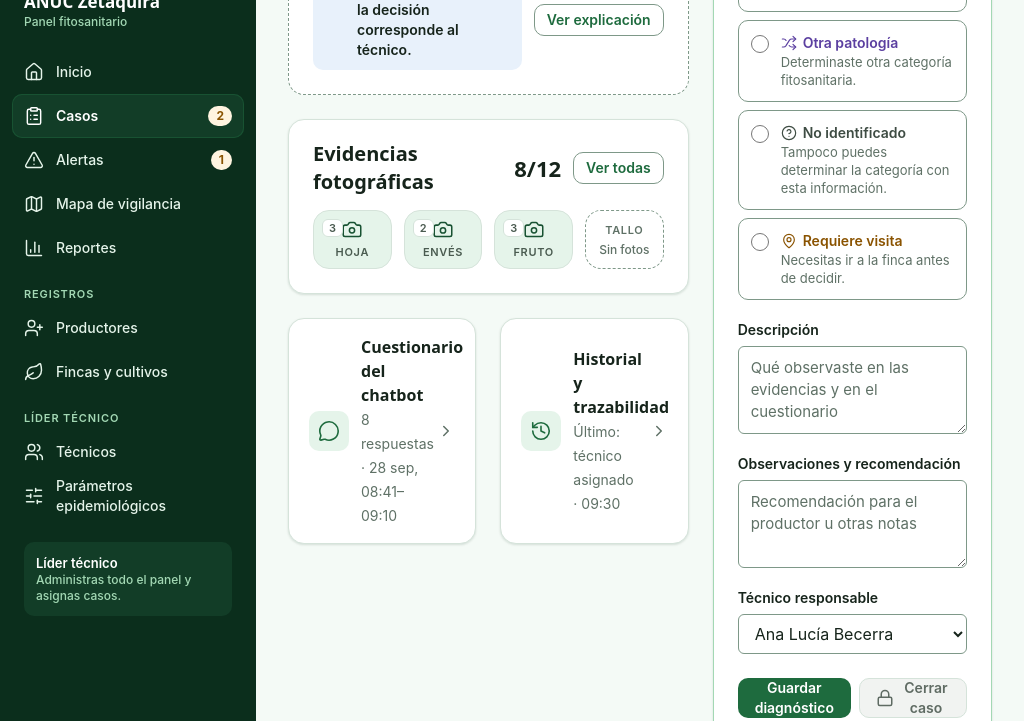
Test: Diagnóstico técnico y cierre › valida el resultado y los campos condicionales sin vaciar el formulario
(page scrolled)
Expected: the button "Cerrar caso" is disabled, [859, 678, 967, 718]
Type "Moho gris en frutos." into the text box labelled "Descripción".
click(852, 390); type("Moho gris en frutos.")  # box [738, 346, 967, 434]
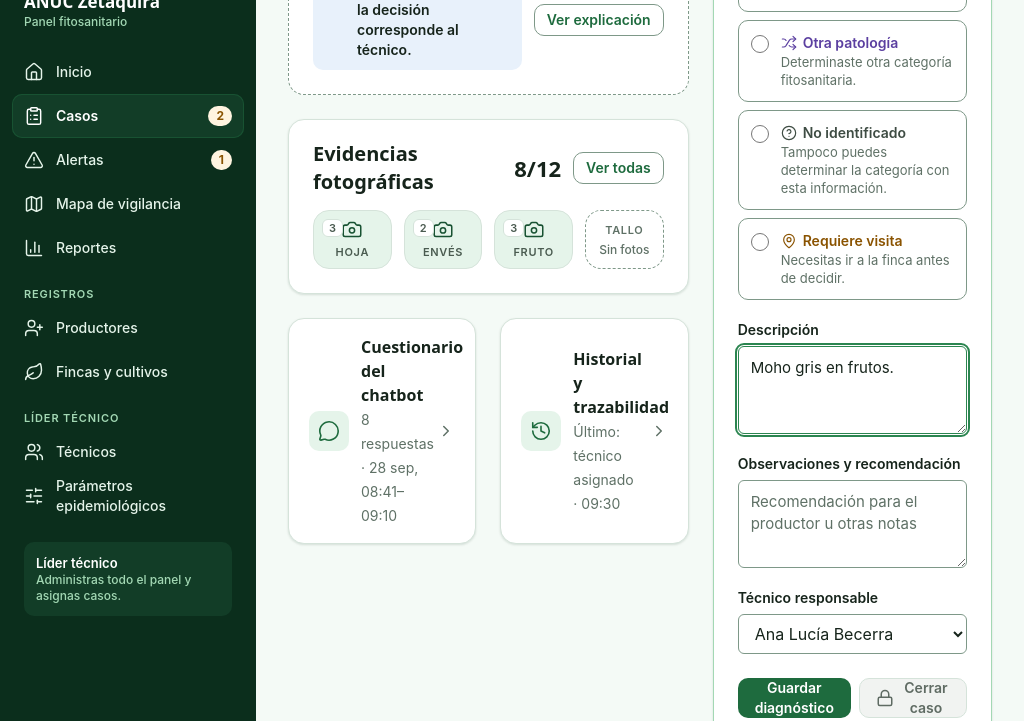
Click the button "Guardar diagnóstico".
click(794, 698)  # box [738, 678, 851, 718]
(page scrolled)
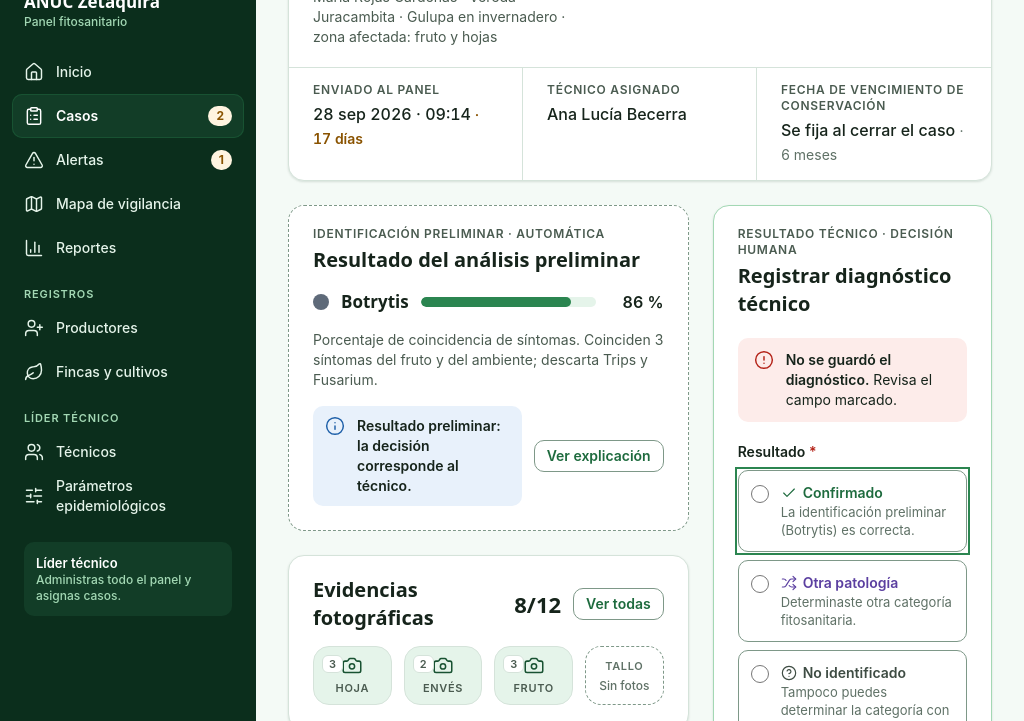
Now the text "No se guardó el diagnóstico." is shown, box [786, 351, 891, 388]
Now the text "Revisa el campo marcado." is shown, box [786, 371, 932, 408]
Click the radio button labelled "Otra patología Determinaste otra categoría fitosanitaria.".
click(760, 584)  # box [751, 575, 769, 593]
(page scrolled)
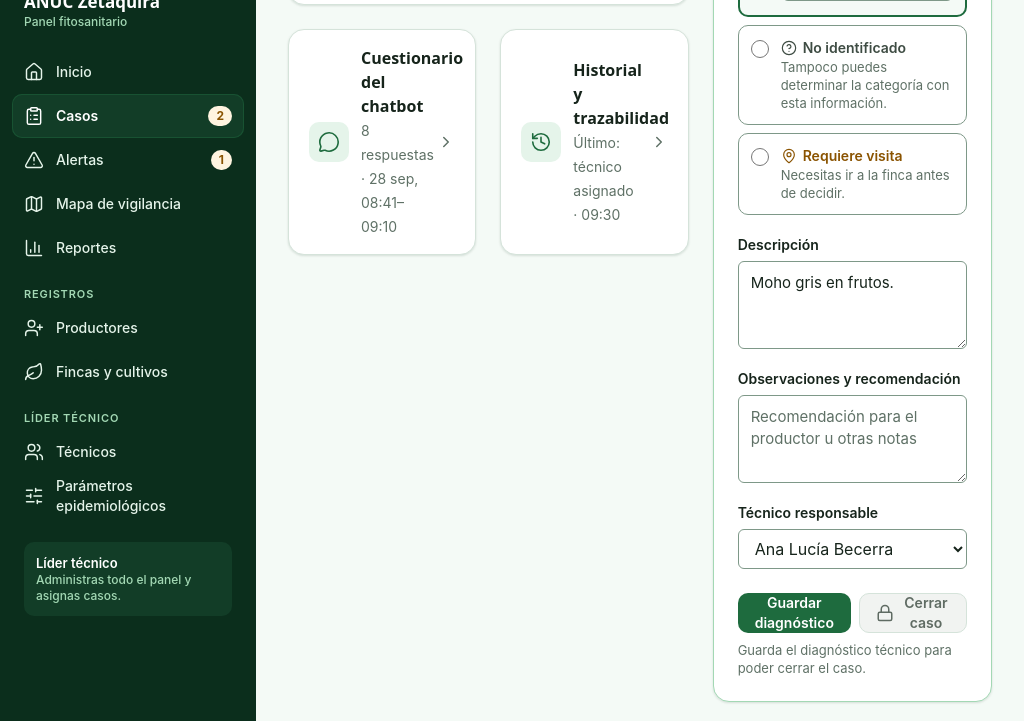
Expected: the option "Botrytis" is not shown
Click the button "Guardar diagnóstico".
click(794, 613)  # box [738, 593, 851, 633]
(page scrolled)
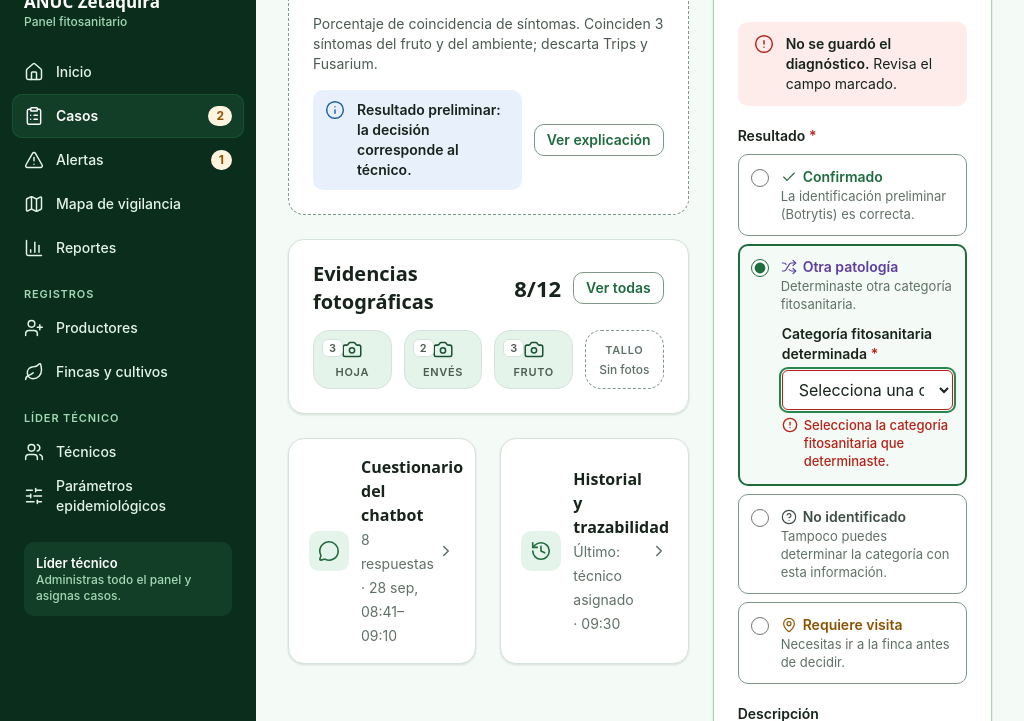
Now the text "Selecciona la categoría fitosanitaria que determinaste." is shown, box [782, 416, 953, 470]
Click the radio button labelled "Requiere visita Necesitas ir a la finca antes de decidir.".
click(760, 626)  # box [751, 617, 769, 635]
(page scrolled)
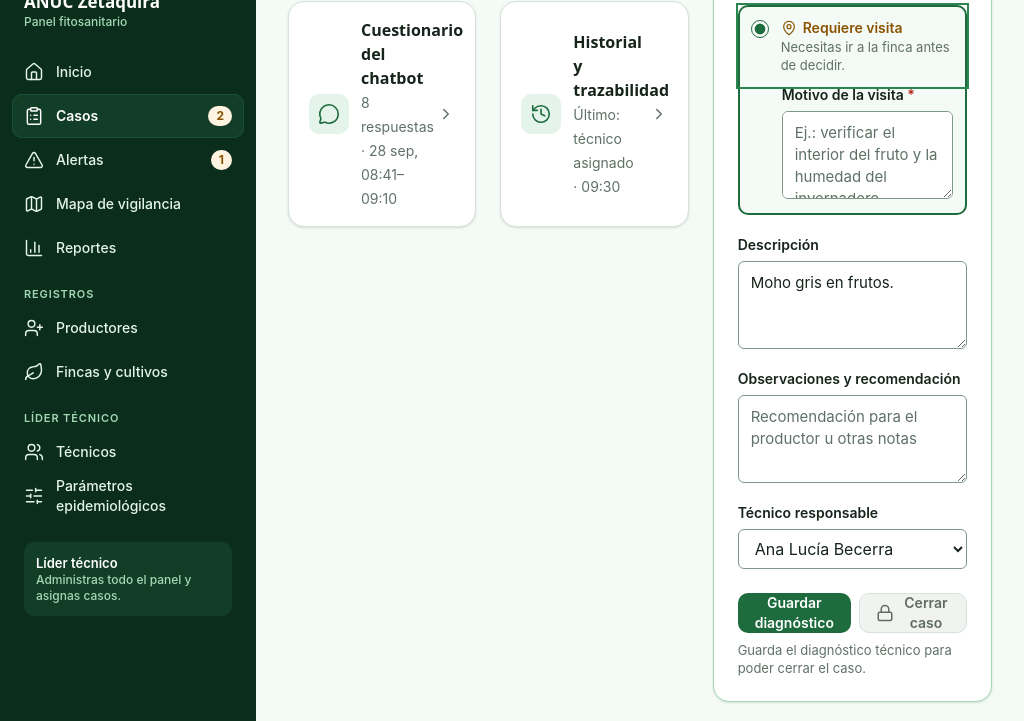
Click the button "Guardar diagnóstico".
click(794, 613)  # box [738, 593, 851, 633]
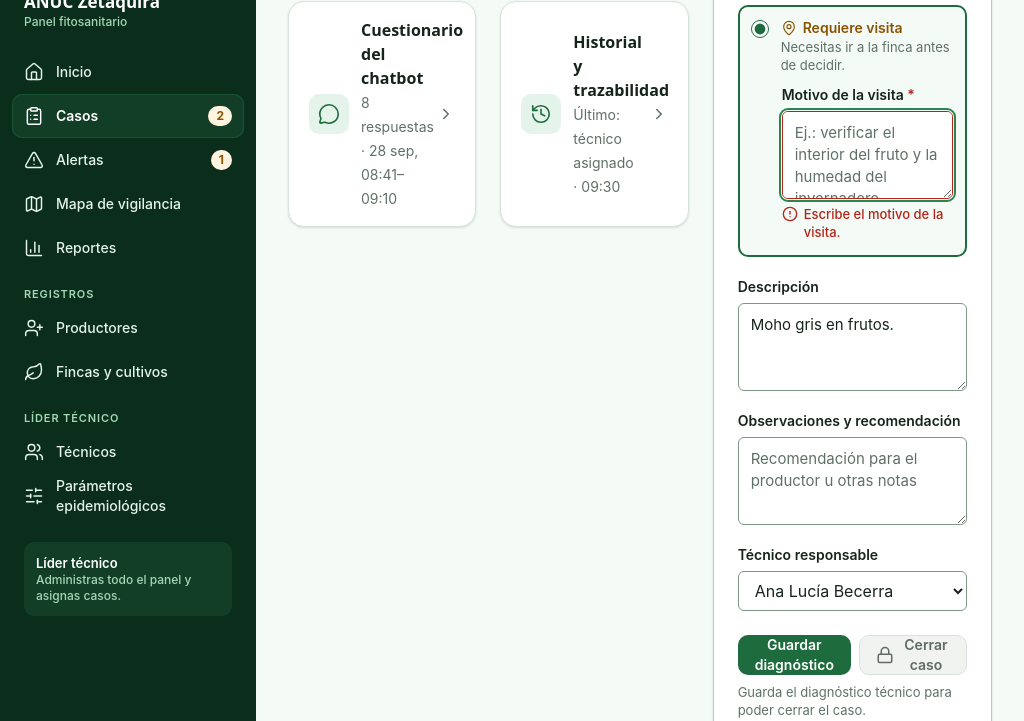
Now the text "Escribe el motivo de la visita." is shown, box [782, 205, 953, 241]
